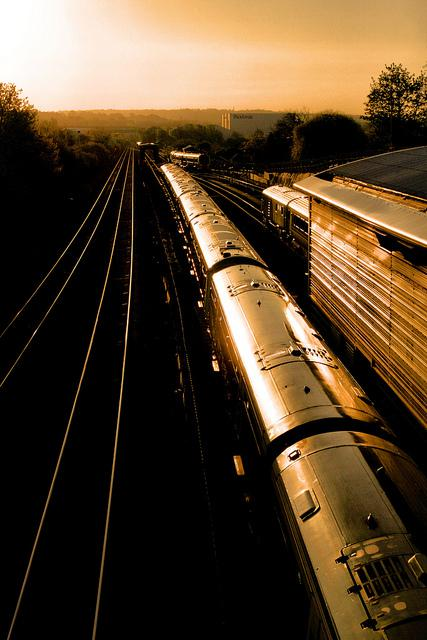Train: (153, 154, 427, 631), (252, 173, 427, 418)
